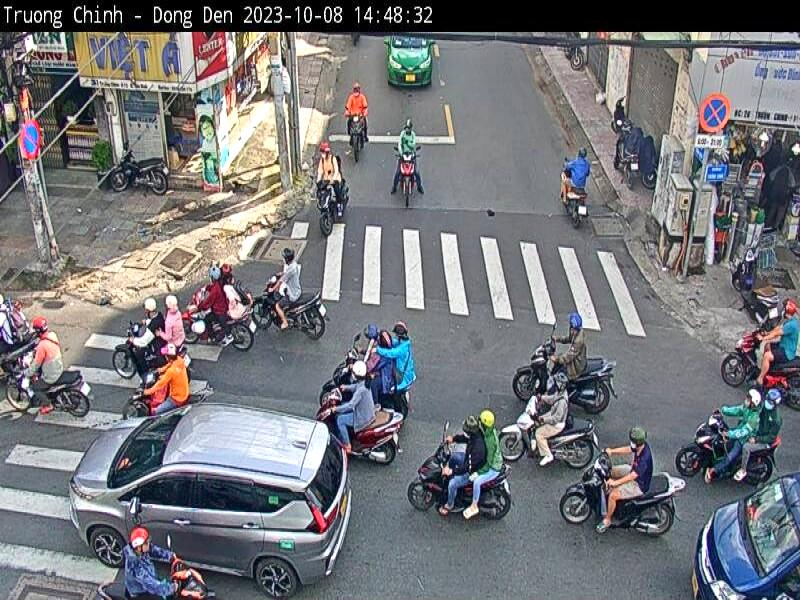car: (67, 407, 359, 600), (690, 471, 800, 600), (384, 35, 436, 90)
motorcycle: (556, 459, 690, 539), (403, 439, 514, 523), (513, 341, 618, 416), (678, 412, 776, 482), (497, 401, 600, 465), (311, 398, 405, 468), (718, 328, 800, 408), (316, 347, 416, 408), (253, 273, 331, 345), (1, 359, 90, 419), (183, 286, 258, 357), (110, 320, 196, 381), (92, 558, 220, 598), (101, 137, 176, 200), (732, 244, 780, 333), (315, 160, 349, 237), (558, 158, 592, 231), (611, 127, 641, 195), (346, 108, 372, 165), (399, 151, 423, 210), (609, 99, 642, 137)
